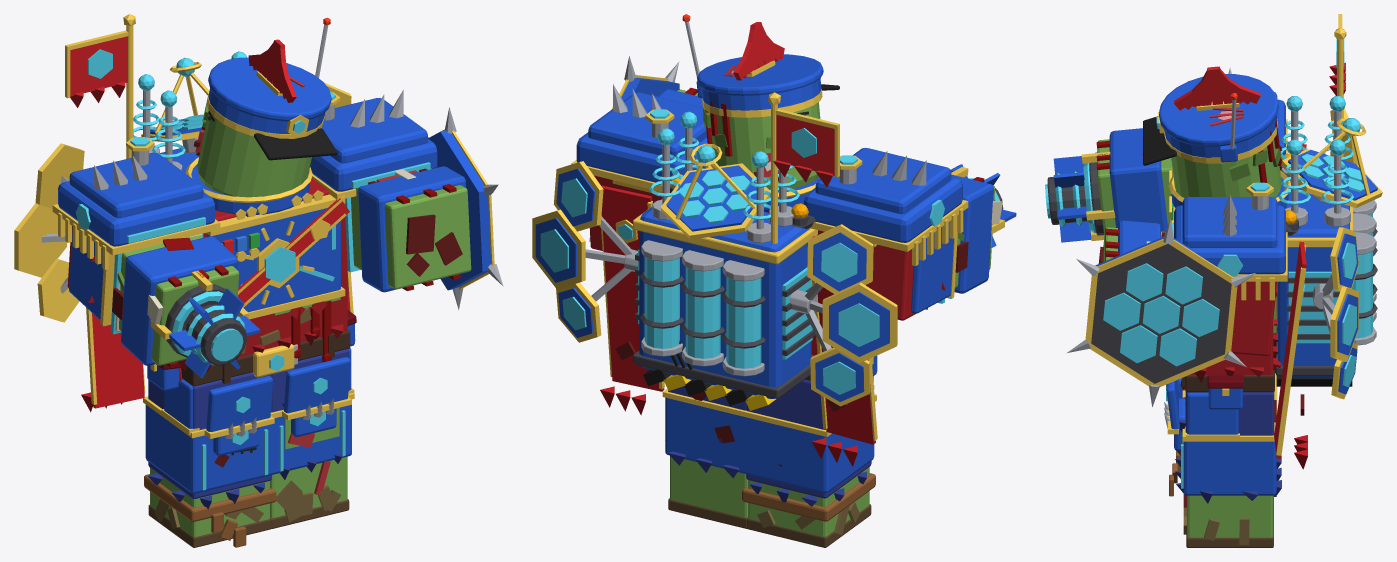
The model's file is jefe_comandante_escudo.fbx.
3 renders of one model, left to right at view 1: azimuth 30°, elevation 25°; view 2: azimuth 150°, elevation 25°; view 3: azimuth 270°, elevation 25°, orthographic. The views are drawn at different scales.
Visible parts, largest first — view 1: Torso, RightArm, LeftArm, Head, RightLeg, LeftLeg; view 2: Torso, RightLeg, Head, LeftLeg, RightArm, LeftArm; view 3: Torso, LeftArm, Head, LeftLeg, RightArm, RightLeg.
Boxes of the visible parts, box(x1,y1,x2,y2) form: Torso: box(14, 14, 437, 438); RightArm: box(67, 226, 260, 378); LeftArm: box(345, 107, 503, 310); Head: box(193, 17, 337, 197); RightLeg: box(143, 372, 276, 547); LeftLeg: box(270, 349, 354, 528); Torso: box(532, 84, 968, 466); RightLeg: box(741, 379, 876, 547); Head: box(682, 14, 839, 189); LeftLeg: box(662, 386, 748, 528); RightArm: box(866, 164, 1016, 320); LeftArm: box(589, 56, 703, 250); Torso: box(1166, 14, 1382, 469); LeftArm: box(1066, 219, 1276, 406); Head: box(1143, 66, 1282, 197); LeftLeg: box(1164, 392, 1281, 547); RightArm: box(1045, 128, 1172, 242); RightLeg: box(1166, 373, 1277, 501).
Size of the model in its own units: 1161 by 1466 by 981.
Materials: 1 (1 with a texture image).
